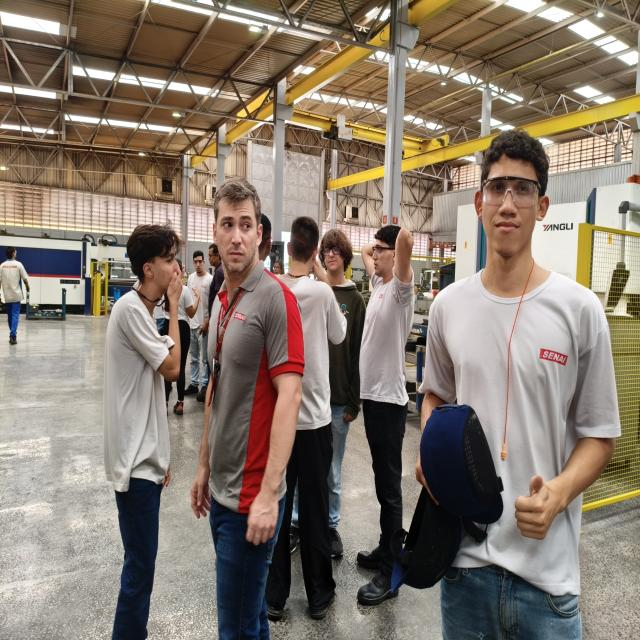oculos-epi: (481, 176, 541, 206), (371, 247, 395, 257), (194, 260, 204, 264)
sem_oculos: (210, 212, 262, 235), (322, 240, 348, 260), (148, 257, 186, 269), (208, 254, 222, 258)
